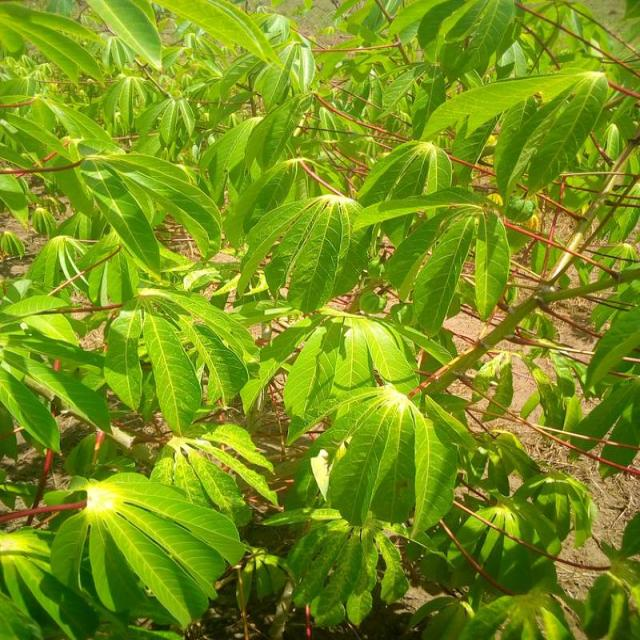cassava leaf: (0, 0, 638, 637), (47, 468, 246, 630)
